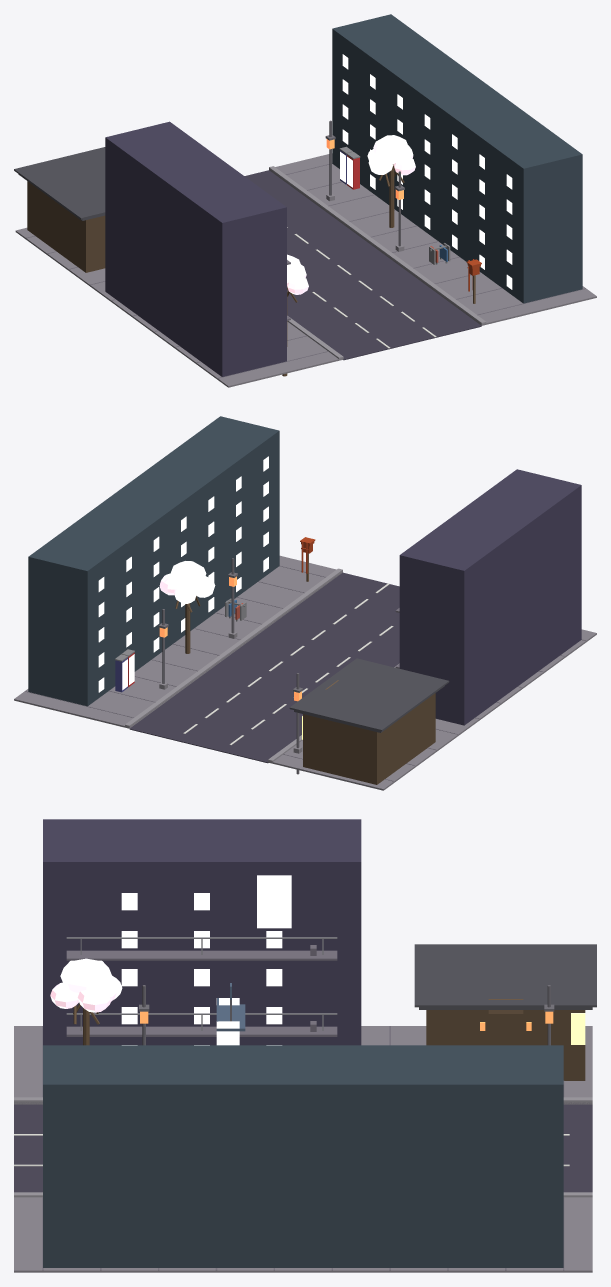
File: env2-2.glb
The picture shows the model from 3 angles, top to bottom: view 1: azimuth 30°, elevation 25°; view 2: azimuth 150°, elevation 25°; view 3: azimuth 270°, elevation 25°; orthographic projection. The views are drawn at different scales.
Parts seen in each view (by area): view 1: env2-2; view 2: env2-2; view 3: env2-2.
Part boxes in pixels (left/top/right/bottom): env2-2: left=14, top=14, right=596, bottom=387; env2-2: left=14, top=416, right=596, bottom=790; env2-2: left=14, top=819, right=596, bottom=1272.
Bounding box in the file's own units: 20 × 9.5 × 20.15.
